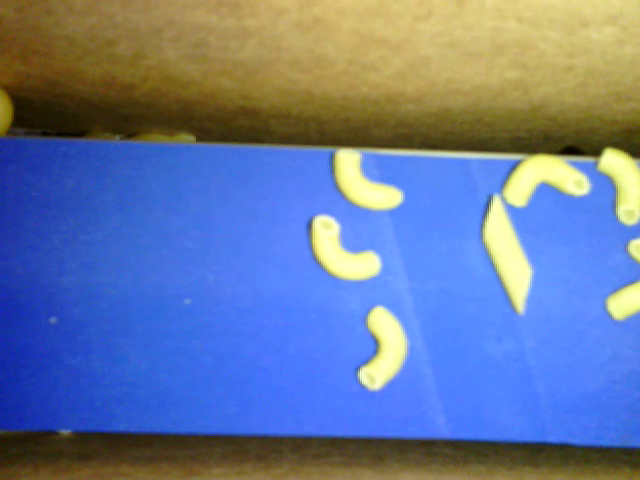elbow: (498, 152, 594, 211), (307, 214, 384, 286), (331, 147, 407, 213), (356, 303, 409, 395), (597, 148, 639, 224)
penne: (479, 193, 537, 319)
